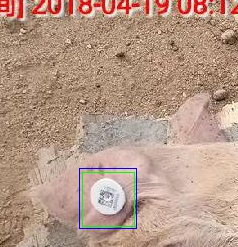text: (82, 172, 134, 226)
